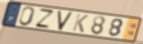0: (18, 6, 36, 27)
8: (90, 16, 107, 36), (108, 18, 124, 37)
K: (71, 13, 90, 34)
V: (57, 10, 75, 32)
Z: (34, 7, 57, 30)
